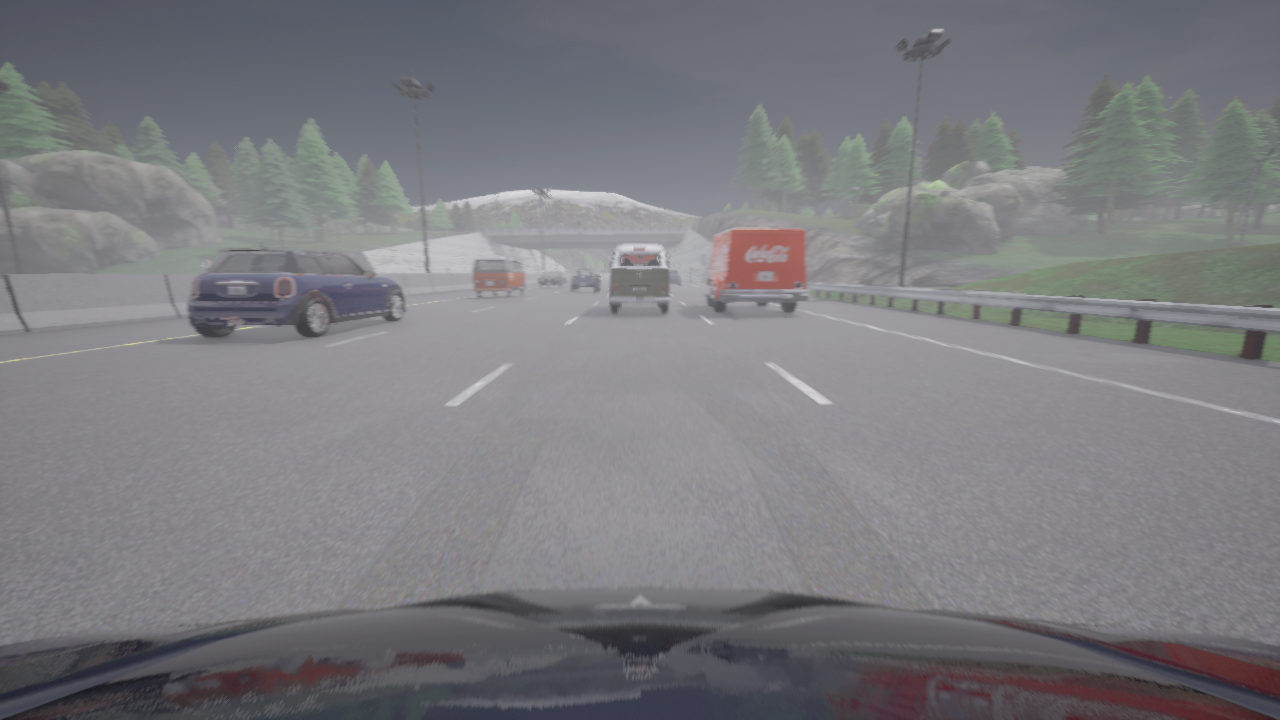cyclist: (0, 588, 1279, 719), (188, 242, 406, 337), (701, 228, 808, 312), (609, 244, 669, 313), (472, 257, 527, 297), (570, 268, 600, 292), (537, 272, 567, 287), (669, 271, 681, 284)
